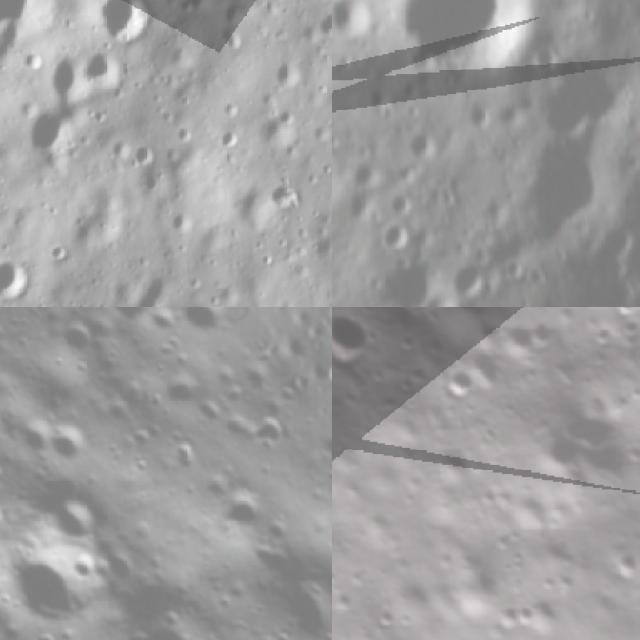crater: (0, 524, 119, 640), (395, 0, 534, 79), (523, 135, 620, 238), (527, 47, 636, 135), (41, 481, 120, 560), (113, 593, 232, 640), (208, 481, 276, 549), (332, 307, 390, 383), (239, 400, 301, 462), (43, 416, 104, 477), (20, 102, 80, 160), (0, 0, 59, 53), (52, 318, 105, 372), (430, 357, 483, 411), (169, 307, 240, 347), (232, 182, 285, 232), (442, 252, 492, 301), (95, 0, 153, 42), (93, 307, 176, 336), (44, 52, 88, 103), (80, 46, 121, 96), (332, 0, 372, 51), (0, 255, 36, 306), (127, 267, 170, 307), (369, 222, 413, 260), (345, 154, 383, 196), (270, 51, 307, 88), (266, 174, 303, 211), (384, 184, 415, 215), (0, 446, 16, 500), (168, 208, 196, 235), (0, 496, 16, 542), (131, 139, 156, 166), (107, 134, 131, 161), (219, 127, 241, 153), (316, 6, 332, 38), (51, 240, 69, 268)
